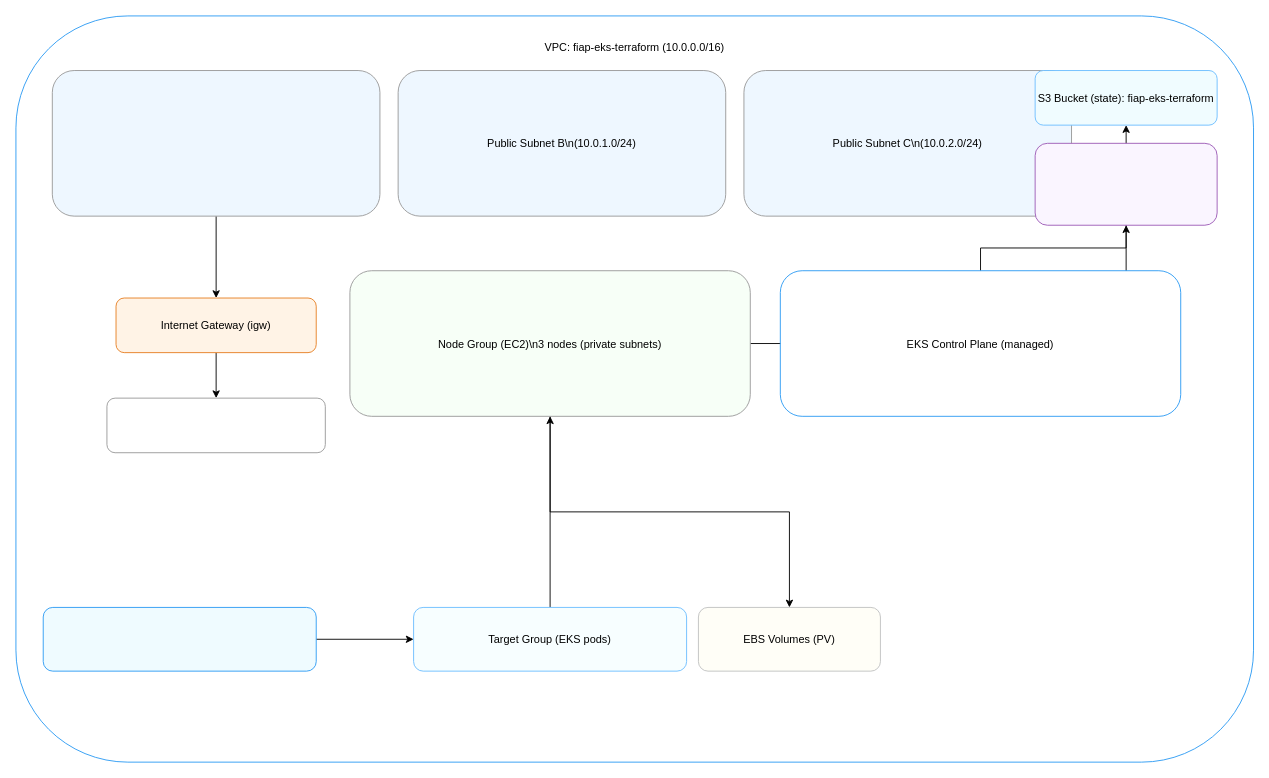
The diagram is 1269 pixels wide and 778 high, and some of its shapes have lost their labels. Here are the shapes that lost their labels. From the top down, the centre of each, then its label:
the point at 215,143: Public Subnet A\n(10.0.0.0/24)
the point at 1125,183: IAM Roles: cluster, node, EBS CSI
the point at 215,425: Route Table: public → IGW
the point at 179,639: ALB / ELB (public)
